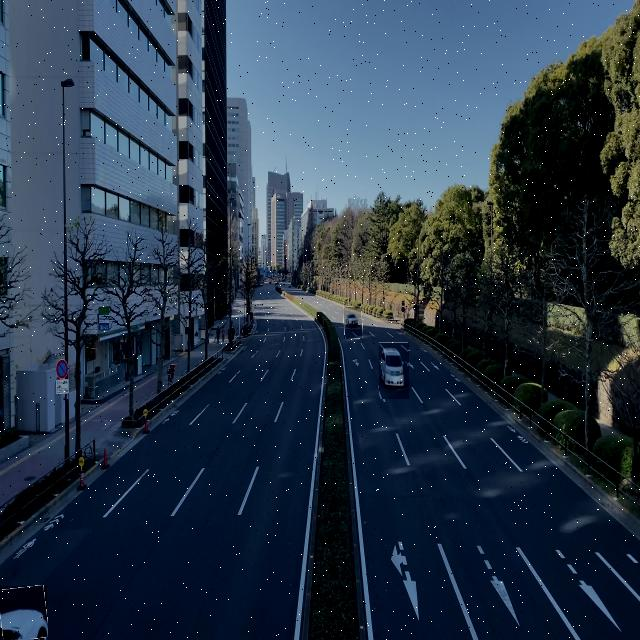Car: (0, 586, 47, 640), (380, 342, 410, 399), (344, 306, 362, 339)
